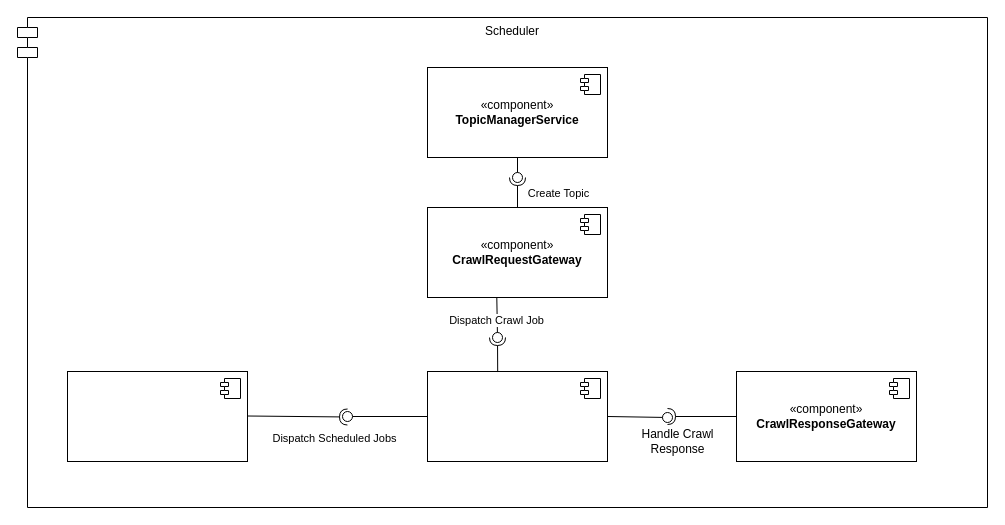
Some shapes in this 1005 by 525 pixel diagram are drawn without their labels. Here are the shapes that lost their labels. From the top down, the box of each, then its label:
(66, 370, 248, 462): «component» CronJobScheduler
(426, 370, 608, 462): «component» SchedulerService
